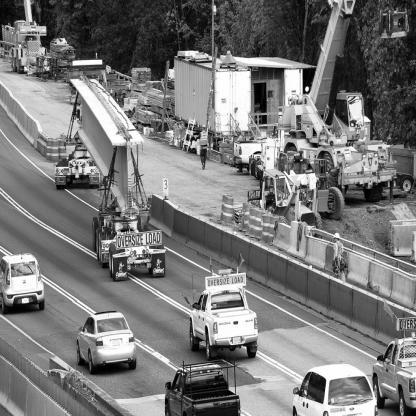car: (74, 303, 151, 383), (287, 360, 383, 416), (3, 250, 58, 317)
truck: (183, 270, 273, 360), (152, 362, 254, 416), (375, 341, 416, 411)
